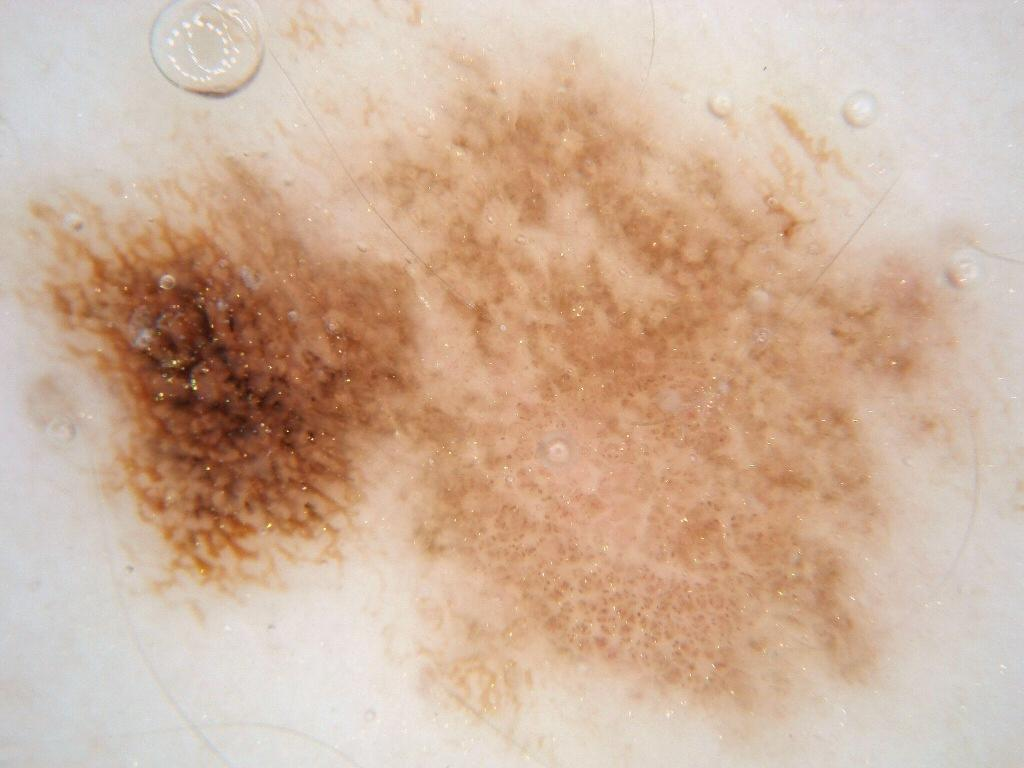Detected Lesion: (19, 49, 985, 739)
